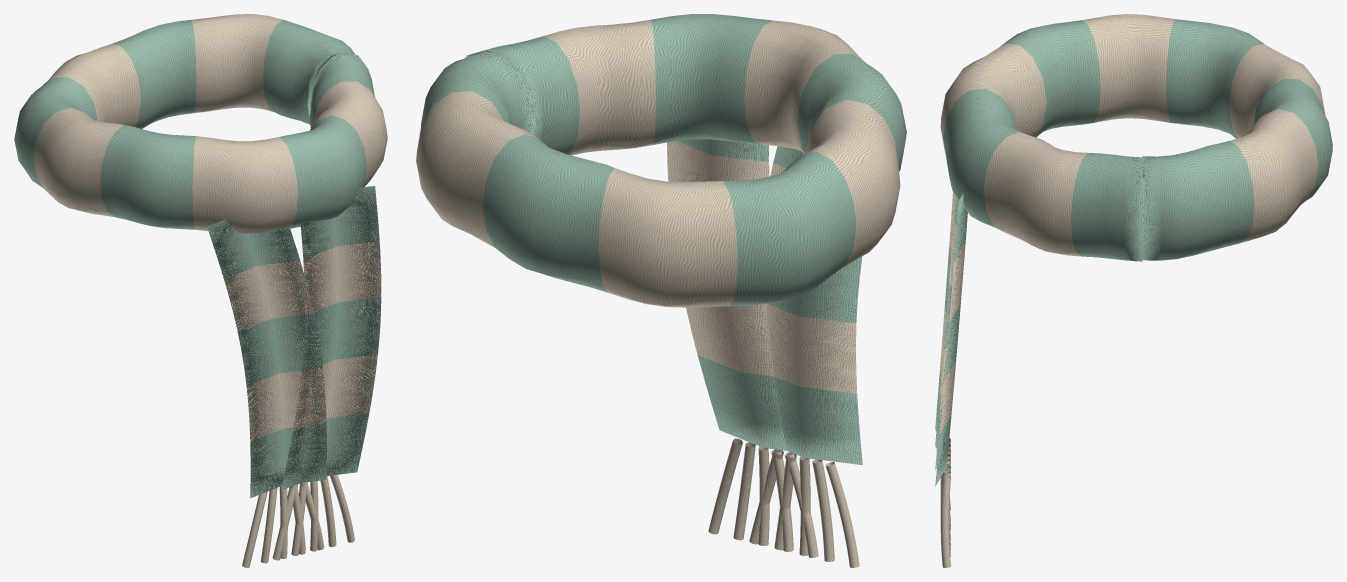
File: yarn_scarf.glb
The picture shows the model from 3 angles, left to right: view 1: azimuth 30°, elevation 25°; view 2: azimuth 150°, elevation 25°; view 3: azimuth 270°, elevation 25°; orthographic projection. The views are drawn at different scales.
Parts seen in each view (by area): view 1: yarn_scarf; view 2: yarn_scarf; view 3: yarn_scarf.
Part boxes in pixels (x1,y1,x2,y2): yarn_scarf: [14, 14, 387, 567]; yarn_scarf: [416, 14, 906, 567]; yarn_scarf: [935, 14, 1332, 567].
Size of the model in its own units: 0.214 by 0.2575 by 0.2031.
2 materials, 2 textured.
